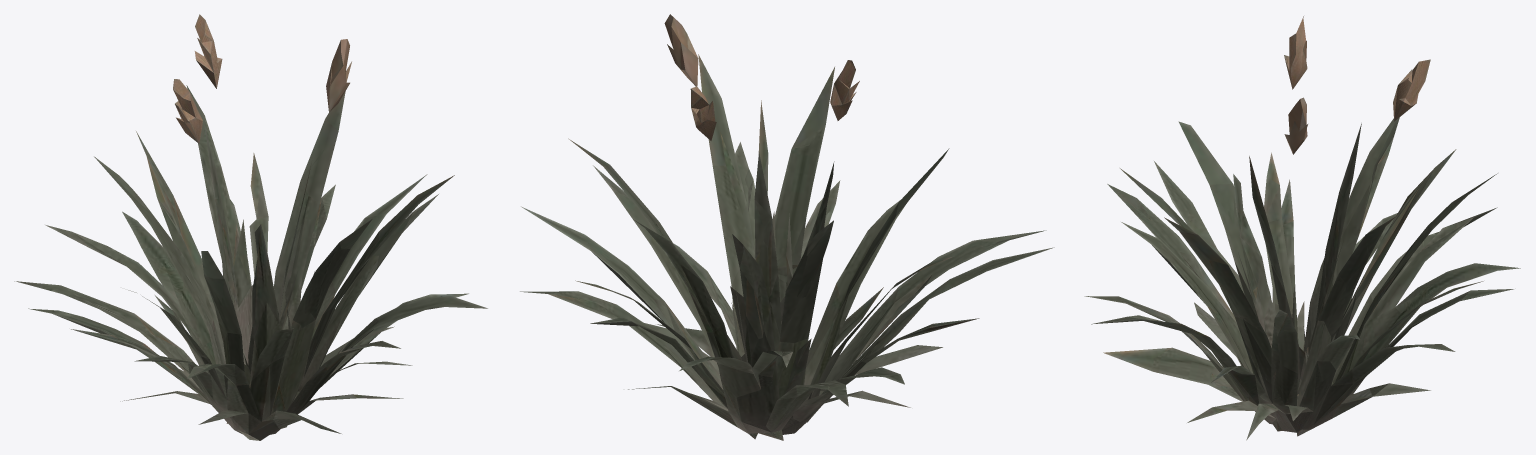
Rendered from scrub_tuft.glb.
The picture shows the model from 3 angles, left to right: view 1: azimuth 30°, elevation 25°; view 2: azimuth 150°, elevation 25°; view 3: azimuth 270°, elevation 25°; orthographic projection. The views are drawn at different scales.
Visible parts, largest first — view 1: Mesh_0; view 2: Mesh_0; view 3: Mesh_0.
Part boxes in pixels (box(x1,y1,x2,y2)): Mesh_0: box(14, 14, 487, 440); Mesh_0: box(520, 14, 1054, 440); Mesh_0: box(1084, 16, 1520, 440).
Bounding box in the file's own units: 1.85 × 1.63 × 1.74.
1 material, 1 textured.
